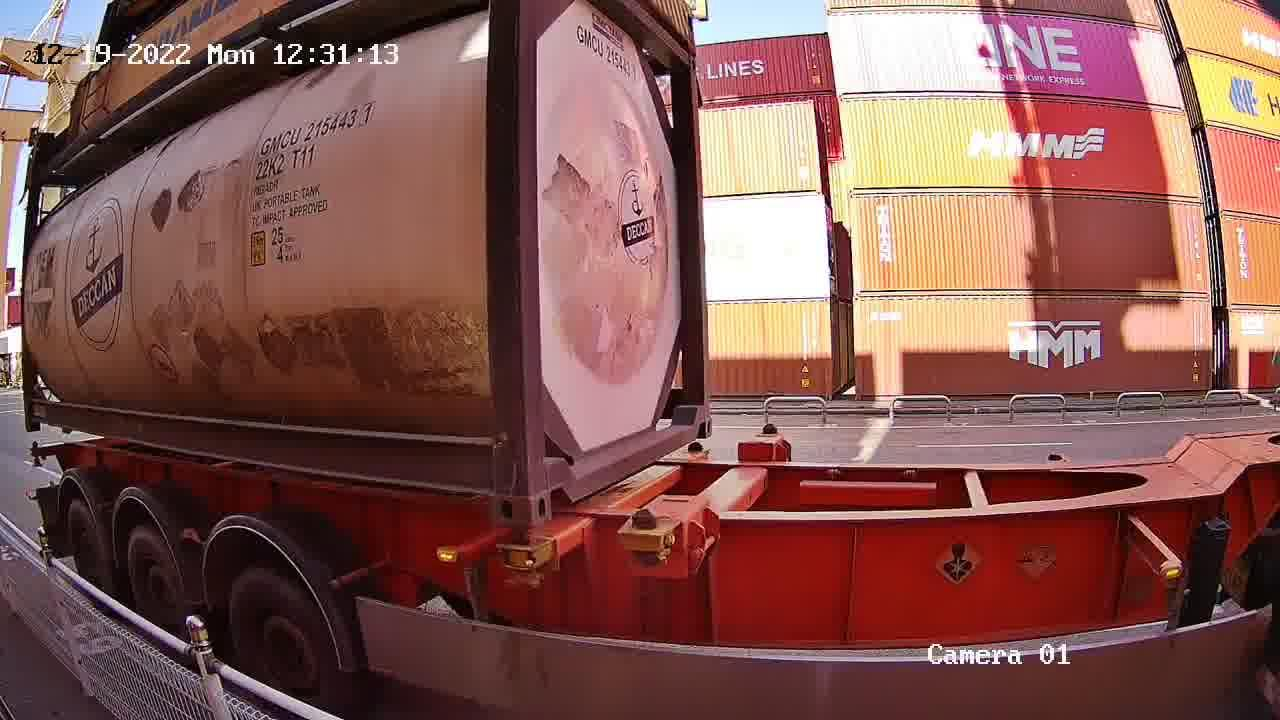Chassis: (528, 446, 712, 570)
Cone: (496, 524, 551, 592)
Hole_L: (530, 451, 577, 523)
Hole_R: (455, 458, 530, 524), (675, 395, 715, 443)
Tire: (230, 573, 339, 703), (128, 532, 181, 636), (67, 503, 105, 586)
